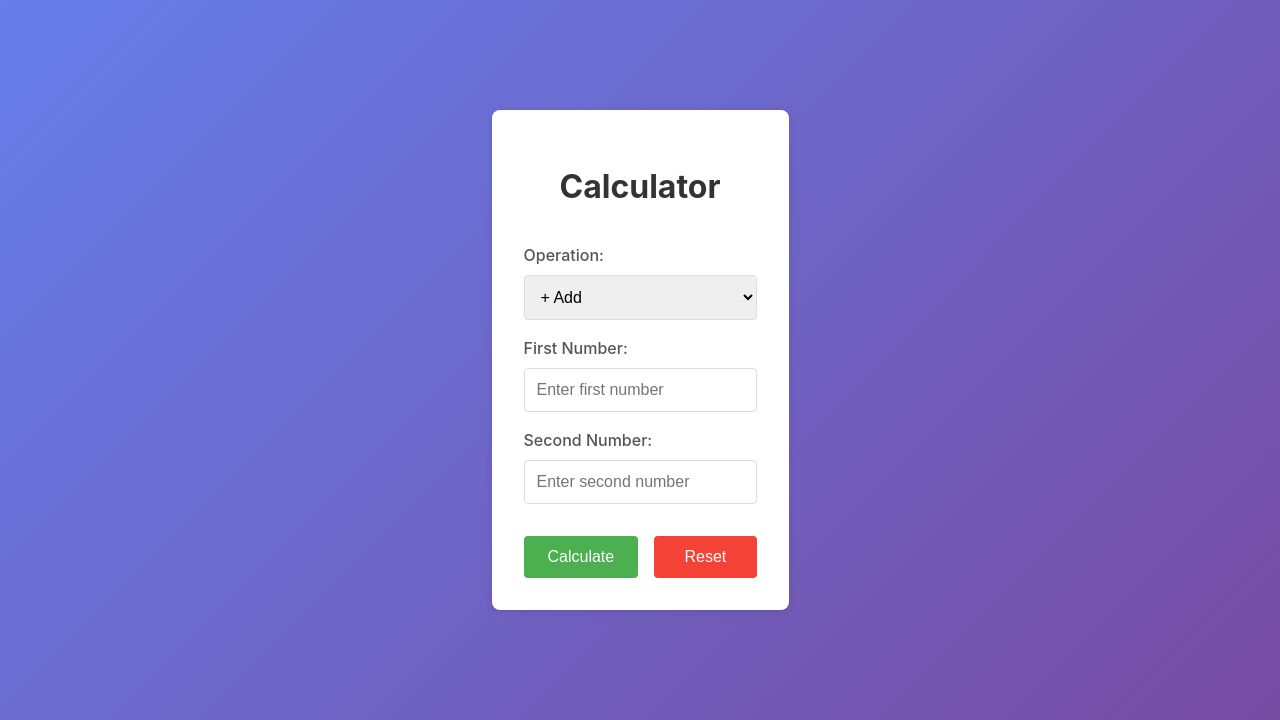
Test: Calculator Component › performs successful addition
In the field labelled "First Number:": (640, 390) [524,368,756,412], type "5"
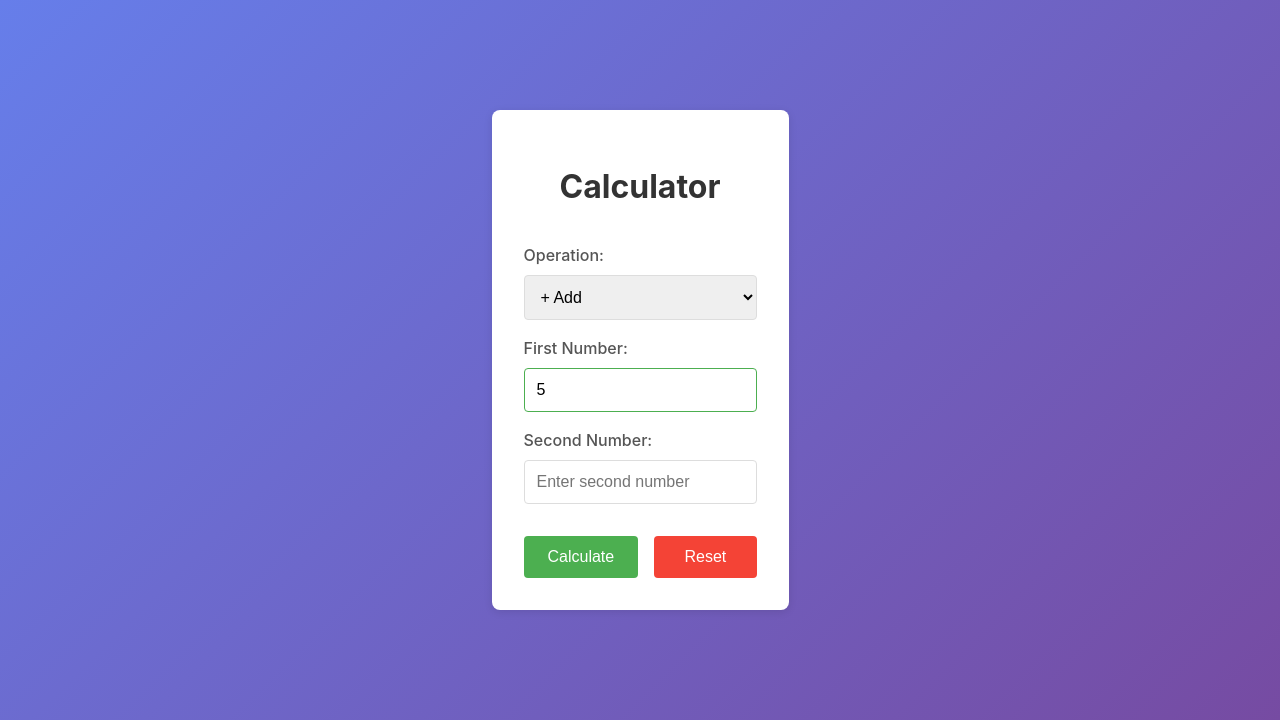
In the field labelled "Second Number:": (640, 482) [524,460,756,504], type "3"
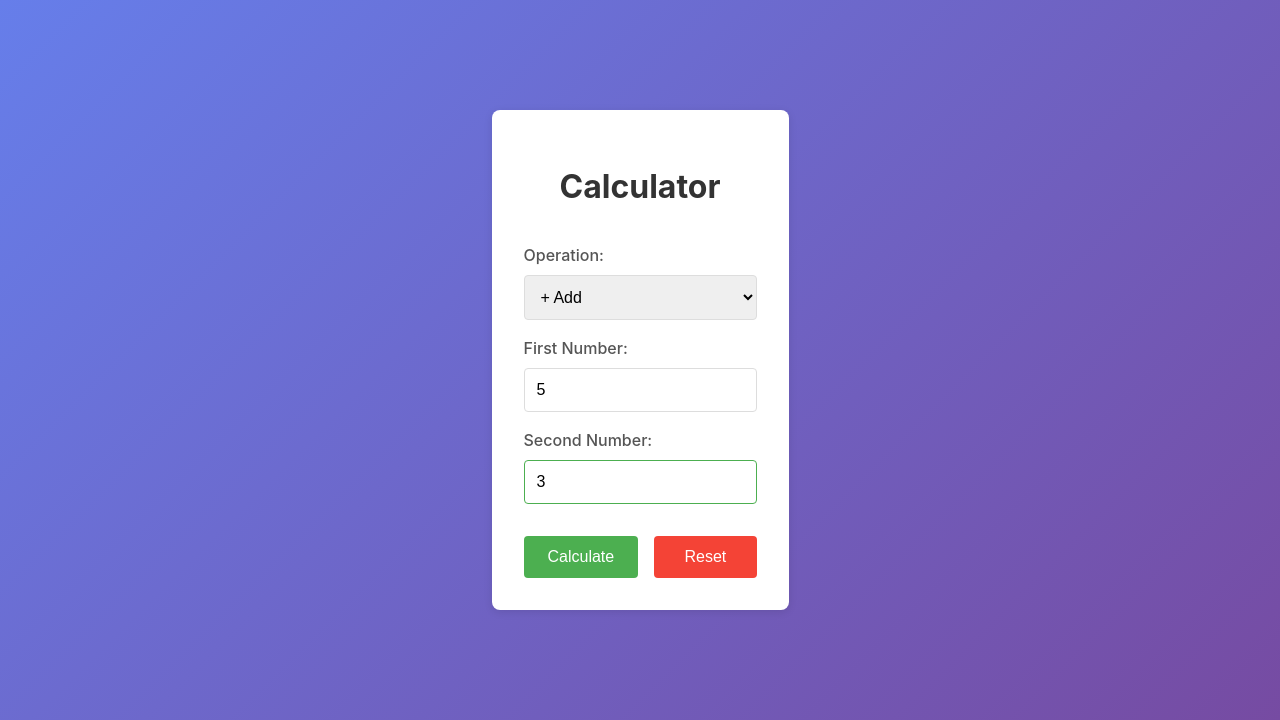
Click the button "Calculate": (581, 557) [524,536,638,578]
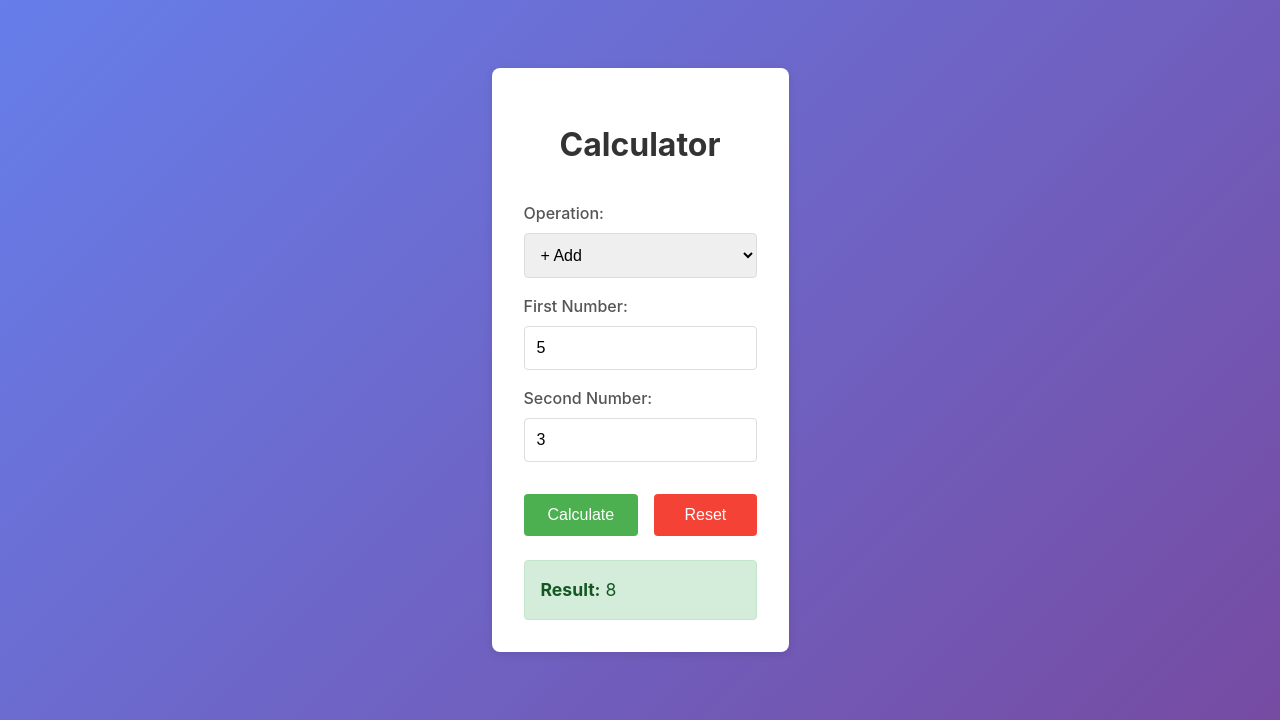
Expected: the element with test id "result" reads "Result: 8", [524,560,756,620]
